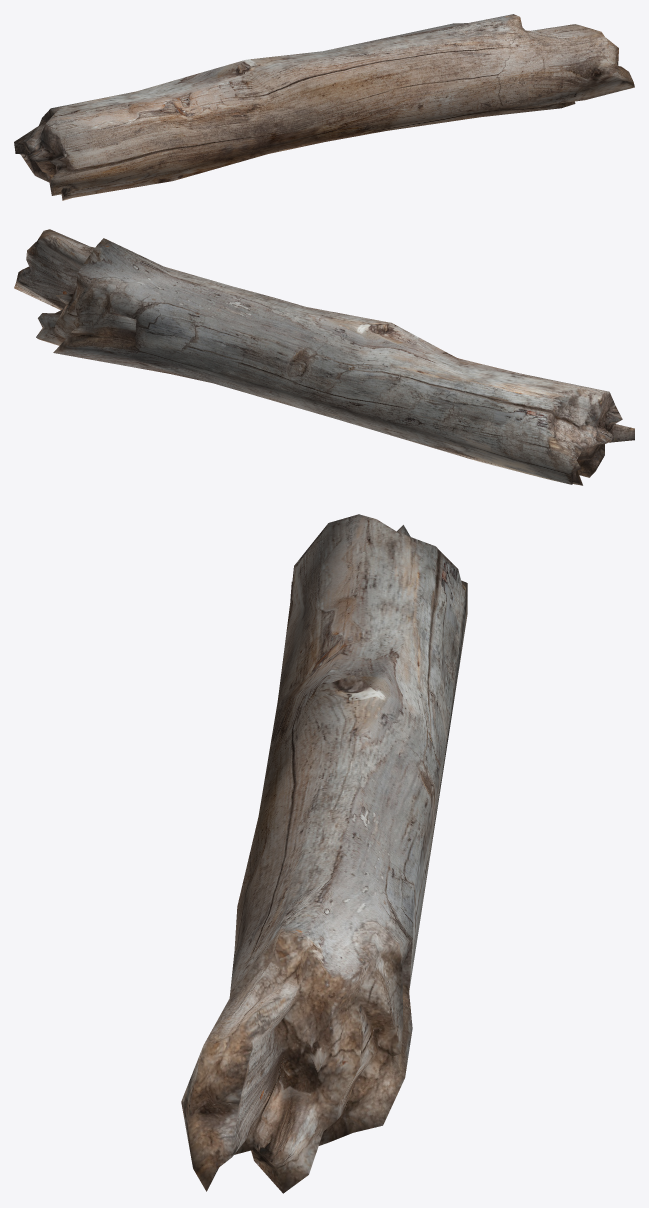
The model's file is wooden_branch_pcyee_low.glb.
3 views of the same model, one above another, from view 1: azimuth 30°, elevation 25°; view 2: azimuth 150°, elevation 25°; view 3: azimuth 270°, elevation 25° (orthographic). The views are drawn at different scales.
Visible parts, largest first — view 1: pcyeE_LOD0_TIER3_000; view 2: pcyeE_LOD0_TIER3_000; view 3: pcyeE_LOD0_TIER3_000.
Boxes of the visible parts, bbox=[...] form: pcyeE_LOD0_TIER3_000: bbox=[14, 14, 634, 200]; pcyeE_LOD0_TIER3_000: bbox=[14, 229, 634, 485]; pcyeE_LOD0_TIER3_000: bbox=[181, 514, 467, 1193].
Size of the model in its own units: 0.4505 by 0.0791 by 0.0992.
Materials: 1 (1 with a texture image).
